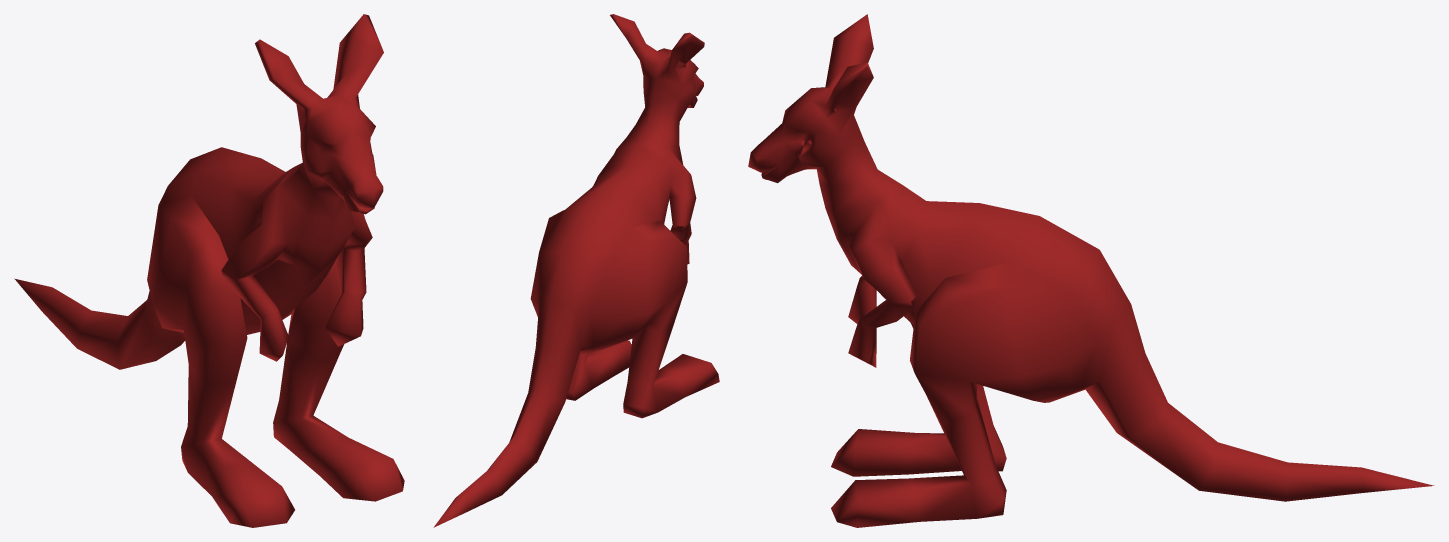
File: canguro.fbx
3 views of the same model, side by side, from view 1: azimuth 30°, elevation 25°; view 2: azimuth 150°, elevation 25°; view 3: azimuth 270°, elevation 25° (orthographic). The views are drawn at different scales.
Parts seen in each view (by area): view 1: G_0Editable_Mesh1; view 2: G_0Editable_Mesh1; view 3: G_0Editable_Mesh1.
Boxes of the visible parts, x1,y1,x2,y2 form: G_0Editable_Mesh1: (14, 14, 404, 527); G_0Editable_Mesh1: (433, 14, 719, 527); G_0Editable_Mesh1: (748, 14, 1434, 527).
Bounding box in the file's own units: 0.7214 × 1.89 × 2.58.
